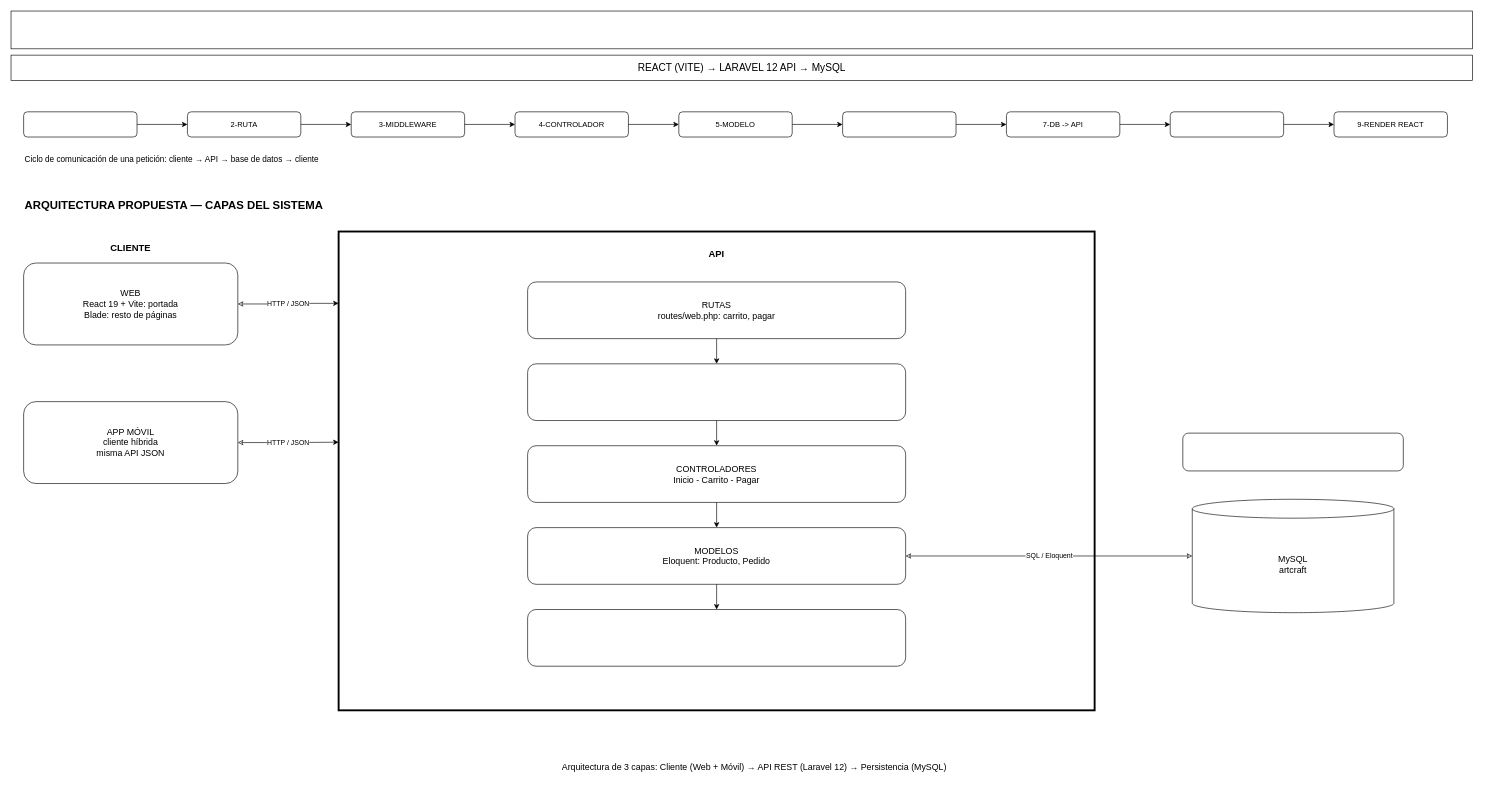
This 1496x791 diagram has some shape labels left out. Each missing label, with the centre of its shape:
1-REQUEST HTTP: the point at 80,124
6-MYSQL->DB: the point at 899,124
8-JSON -> REACT: the point at 1227,124
ART CRAFT — COMPONENTES DEL SISTEMA Y ARQUITECTURA: the point at 741,29
BASE DE DATOS: the point at 1292,451
MIDDLEWARE sesión del carrito + CSRF: the point at 716,392
VISTAS / RESPUESTAS Blade + JSON (React): the point at 716,637
